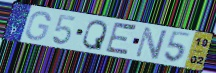5: (163, 29, 194, 65), (51, 13, 78, 46)
E: (103, 20, 139, 59)
G: (24, 10, 52, 42)
N: (133, 25, 170, 61)
Q: (80, 19, 109, 52)
